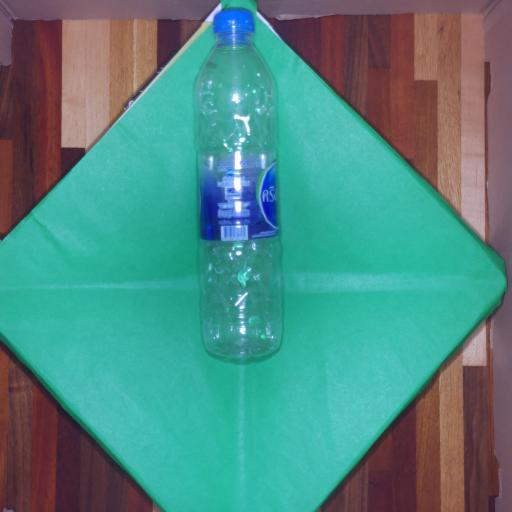bottle: (200, 8, 286, 363)
